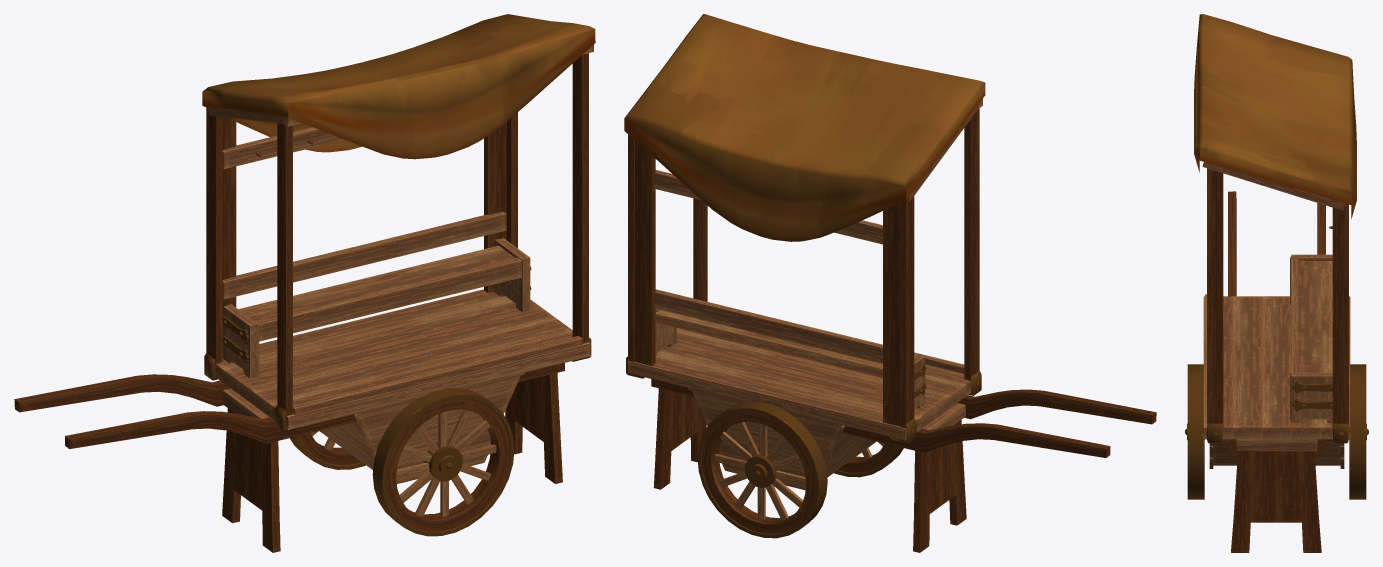
The model's file is stall-cart-empty.glb.
The picture shows the model from 3 angles, left to right: view 1: azimuth 30°, elevation 25°; view 2: azimuth 150°, elevation 25°; view 3: azimuth 270°, elevation 25°; orthographic projection. The views are drawn at different scales.
Visible parts, largest first — view 1: Stall_Cart_Empty; view 2: Stall_Cart_Empty; view 3: Stall_Cart_Empty.
Boxes of the visible parts, box(x1,y1,x2,y2) form: Stall_Cart_Empty: box(14, 14, 595, 552); Stall_Cart_Empty: box(624, 14, 1156, 552); Stall_Cart_Empty: box(1185, 14, 1368, 552).
Size of the model in its own units: 3.02 by 2.63 by 1.06.
3 materials, 3 textured.
